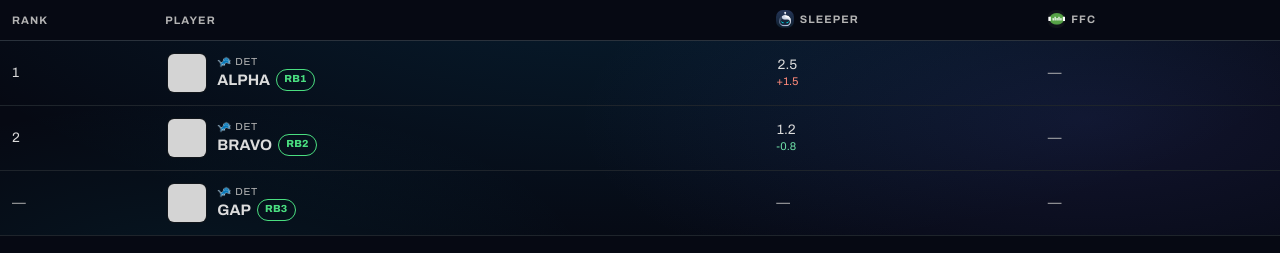
it: DraftGuideTable › re-ranks the positional chip by the sorted provider lane, beside the player name
# Sleeper sort: bravo holds lane rank 1 → bravo becomes RB1 and alpha RB2.
Click the button "Sleeper" at (818, 19), box [776, 10, 859, 28]
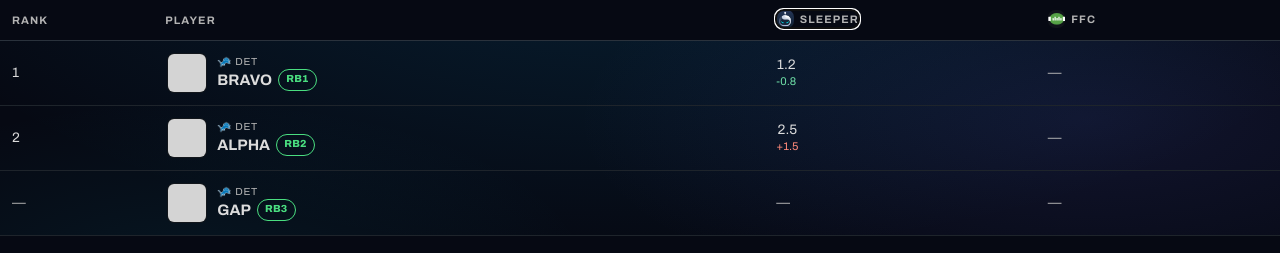
Now the text with class "guide-pos-pill" reads "RB1", box [286, 73, 309, 84]
Now the text with class "guide-pos-pill" reads "RB2", box [284, 138, 307, 149]
# Back to the anchor: the engine order returns.
Click the button "Rank" at (30, 20), box [12, 14, 48, 26]
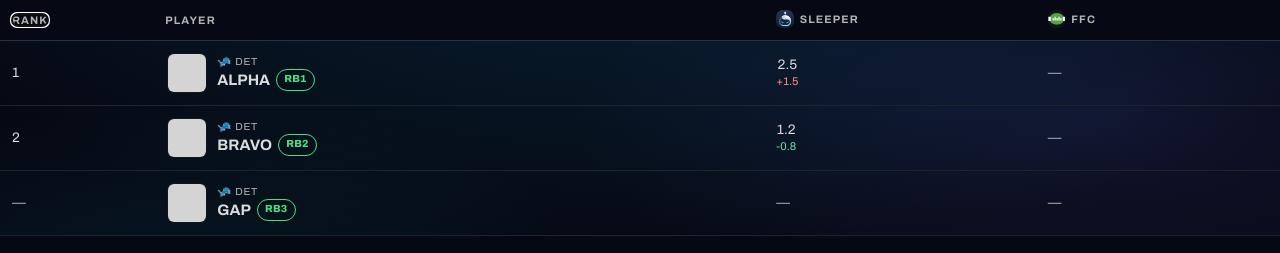
Now the text with class "guide-pos-pill" reads "RB1", box [284, 73, 307, 84]
Now the text with class "guide-pos-pill" reads "RB2", box [286, 138, 309, 149]
